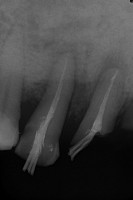Furcation Involvement: (45, 37, 80, 79), (97, 48, 131, 84)
